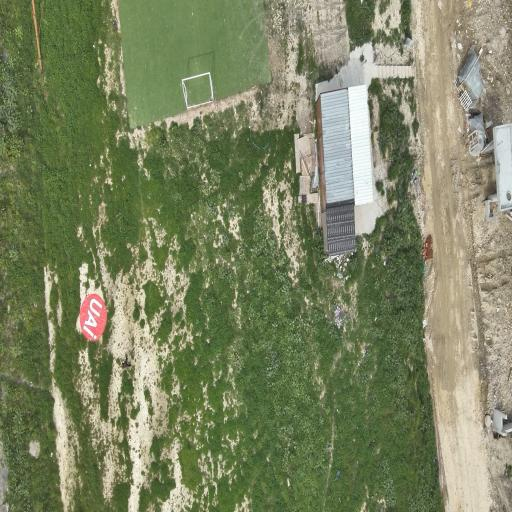UAI: (79, 293, 105, 340)
person: (121, 355, 130, 368)
